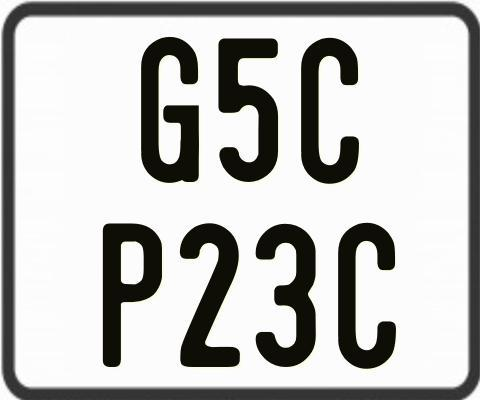2: (180, 222, 246, 366)
3: (254, 221, 320, 370)
5: (217, 36, 283, 182)
C: (336, 220, 399, 372), (300, 37, 358, 183)
G: (138, 36, 196, 188)
P: (102, 222, 167, 369)
